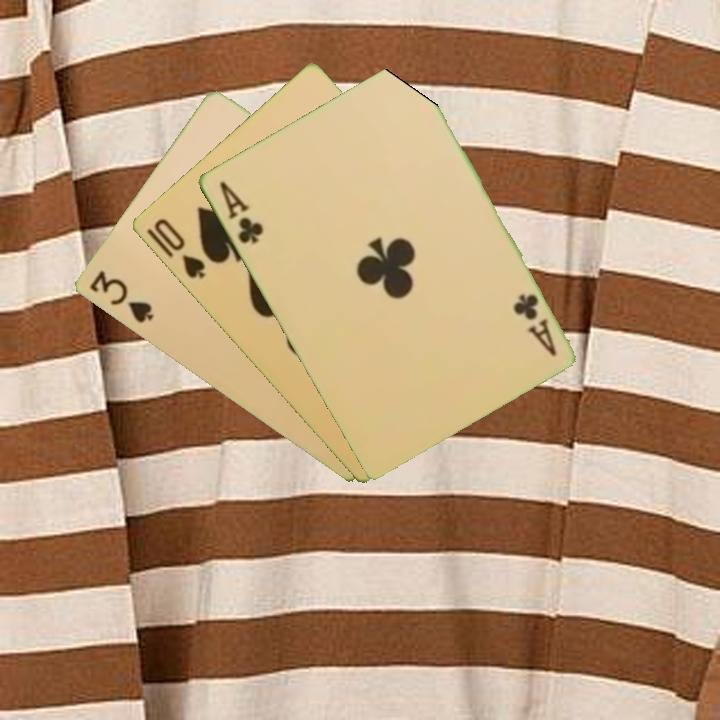10s: (149, 214, 208, 282)
3s: (85, 267, 157, 327)
Ac: (215, 177, 266, 247), (509, 290, 559, 360)
